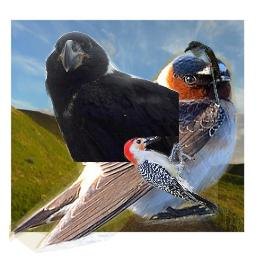Crow: (43, 31, 179, 162)
Cuckoo: (184, 41, 223, 105)
Swallow: (9, 51, 240, 256)
Woodpecker: (124, 136, 218, 213)
